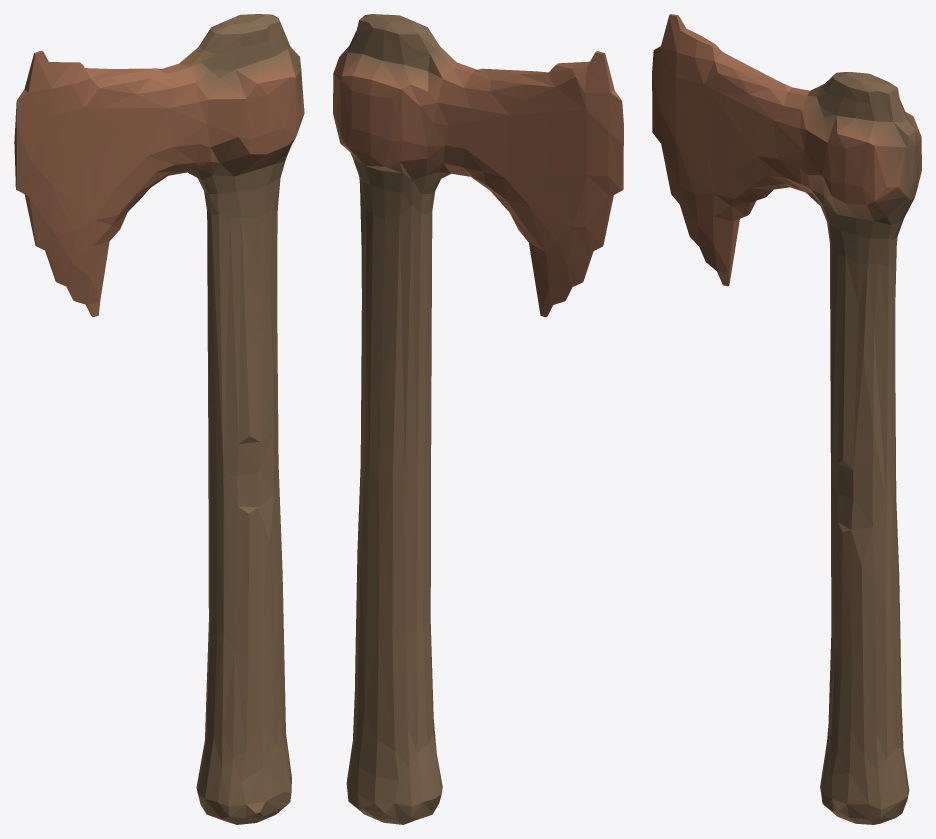
The model's file is axe_cinderforge.glb.
The picture shows the model from 3 angles, left to right: view 1: azimuth 30°, elevation 25°; view 2: azimuth 150°, elevation 25°; view 3: azimuth 330°, elevation 25°; orthographic projection. The views are drawn at different scales.
Parts seen in each view (by area): view 1: world; view 2: world; view 3: world.
Boxes of the visible parts, bbox=[...] form: world: bbox=[14, 14, 304, 824]; world: bbox=[333, 14, 623, 824]; world: bbox=[652, 14, 921, 824].
Size of the model in its own units: 0.3646 by 1 by 0.1023.
